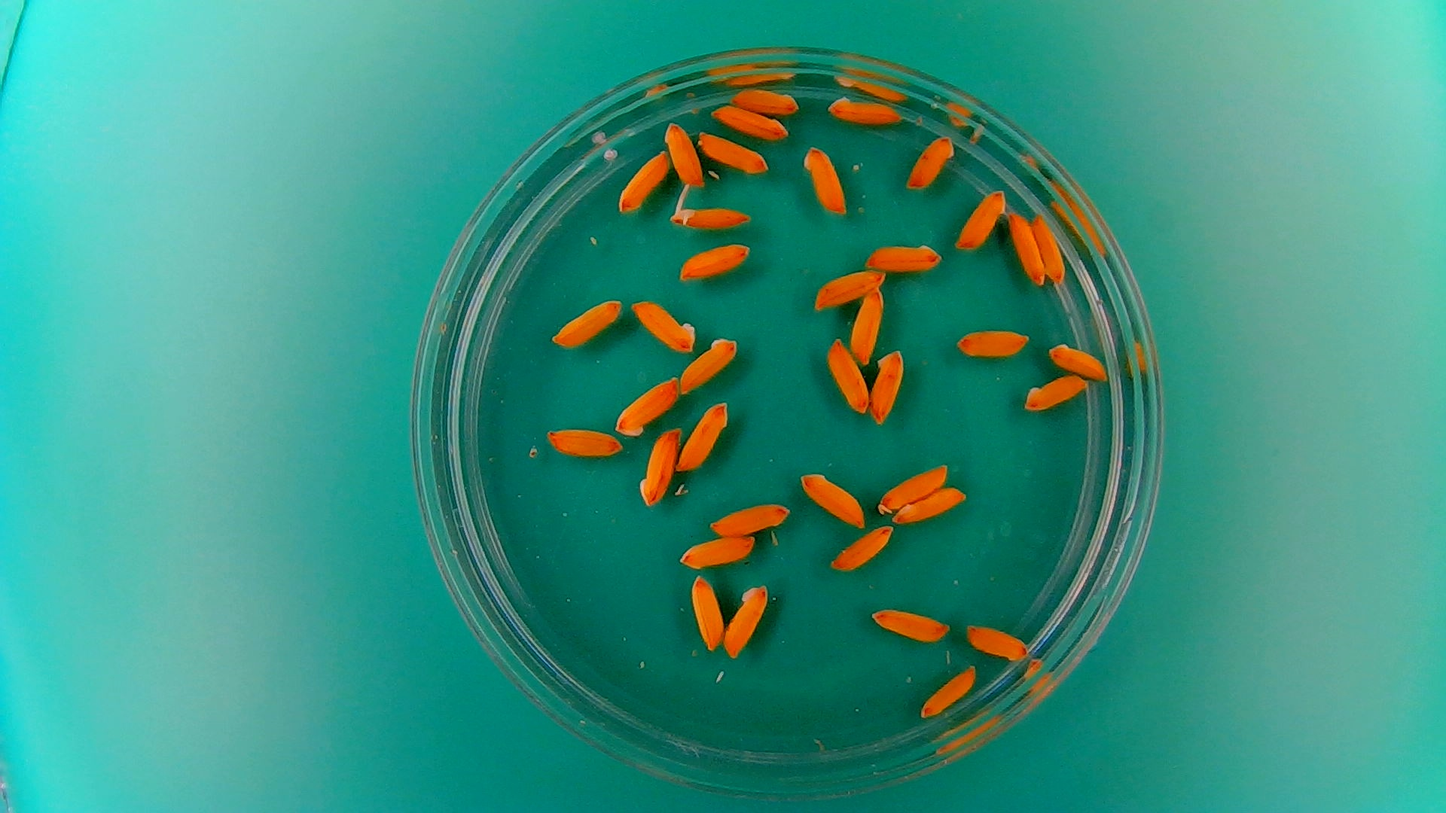no: (611, 371, 681, 438), (797, 469, 867, 529), (676, 398, 731, 473), (877, 464, 953, 517), (628, 295, 697, 353), (549, 295, 623, 349), (721, 579, 770, 660), (636, 425, 682, 509), (678, 332, 740, 394), (824, 336, 871, 415), (615, 147, 670, 213), (918, 662, 979, 720), (954, 186, 1008, 251), (694, 129, 769, 175), (800, 142, 847, 215), (811, 266, 887, 311), (828, 522, 895, 573), (707, 497, 792, 537), (1005, 209, 1048, 288), (868, 604, 952, 644), (674, 239, 753, 281), (891, 482, 970, 522), (869, 346, 908, 427), (905, 131, 956, 190), (709, 102, 786, 141), (544, 423, 625, 460), (676, 534, 757, 571), (688, 572, 725, 653), (663, 118, 705, 188), (848, 285, 885, 364), (964, 620, 1031, 663), (825, 91, 904, 126), (863, 239, 944, 273), (1022, 372, 1088, 413), (1030, 212, 1066, 285), (1046, 340, 1110, 381), (955, 324, 1031, 358), (730, 83, 800, 114)
yes: (668, 192, 752, 230)
